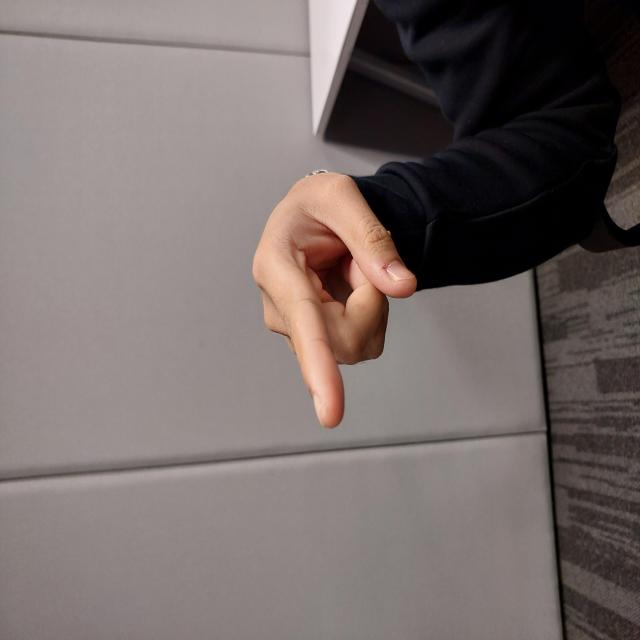Z: (210, 250, 469, 418)
